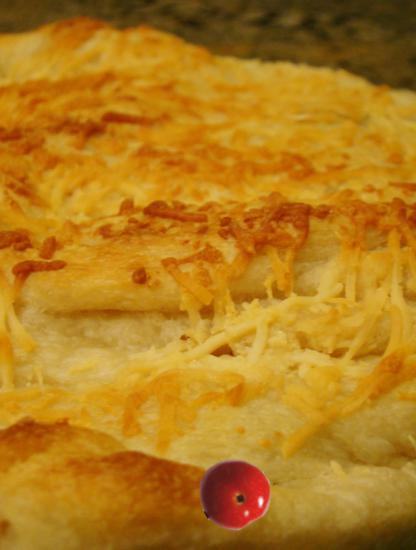Tomato: (198, 457, 271, 530)
